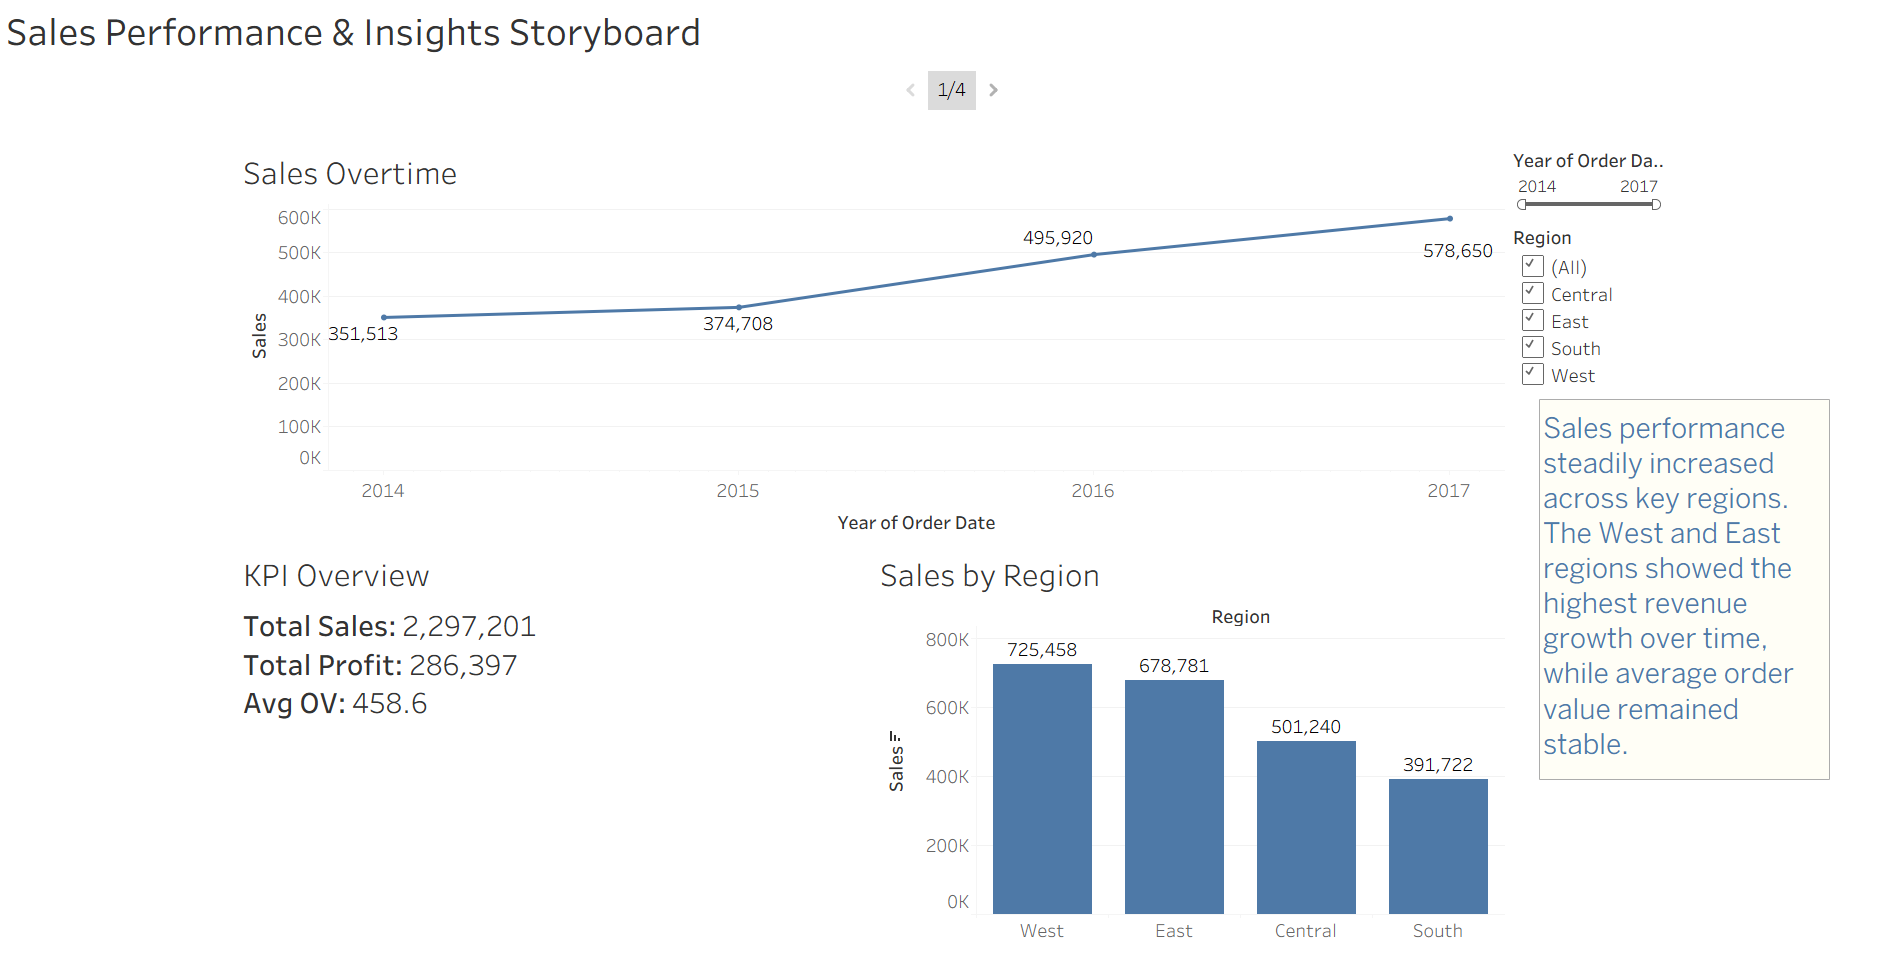

The page's visual inventory and layout, read from the dashboard file:
{"tool":"tableau","page":{"name":"Executive Summary","canvas":[1000,1000],"units":"permille","ordinal":1},"visuals":[{"type":"worksheet","title":"Sales Overtime","mark":"Automatic","rows":["Sales"],"cols":["Order Date"],"box":[5.5,10.7,878.6,489.3]},{"type":"filter","title":"Sales Overtime","param":"[federated.14pgfx41t2hcty10zaxzi1ew9a1v].[tyr:Order Date:qk]","box":[884.1,10.7,110.3,103.1]},{"type":"filter","title":"Sales Overtime","param":"[federated.14pgfx41t2hcty10zaxzi1ew9a1v].[none:Region:nk]","box":[884.1,113.8,110.3,234.3]},{"type":"worksheet","title":"KPI Overview","mark":"Automatic","box":[5.5,500,439.2,489.3]},{"type":"worksheet","title":"Sales by Region","mark":"Automatic","rows":["Sales"],"cols":["Region"],"box":[444.8,500,439.4,489.3]}]}

Visuals, with their boxes on the dashboard's canvas, which has no fixed pixel size, in thousandths of its width and height (x1, y1, x2, y2). These are canvas units, not pixel positions in the 1903x954 screenshot, which may show the page scaled, cropped or inside an application window:
"Sales Overtime" worksheet: detection(6, 11, 884, 500)
"Sales Overtime" filter: detection(884, 11, 994, 114)
"Sales Overtime" filter: detection(884, 114, 994, 348)
"KPI Overview" worksheet: detection(6, 500, 445, 989)
"Sales by Region" worksheet: detection(445, 500, 884, 989)
